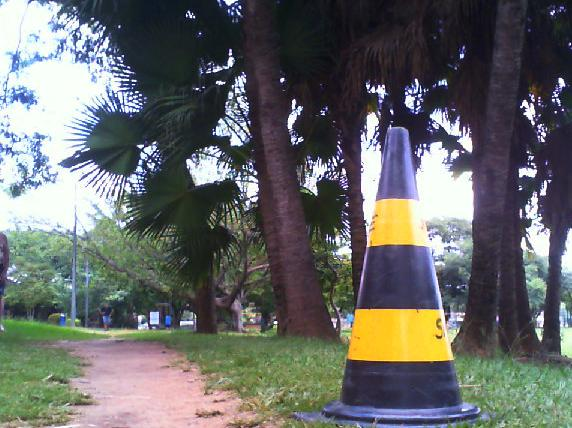0 cone: (290, 126, 489, 428)
